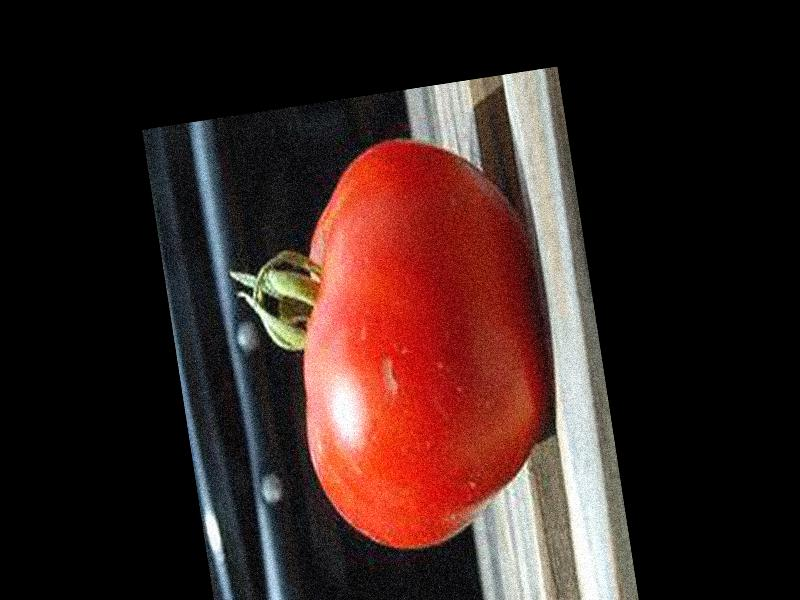Tomato: (216, 124, 569, 568)
